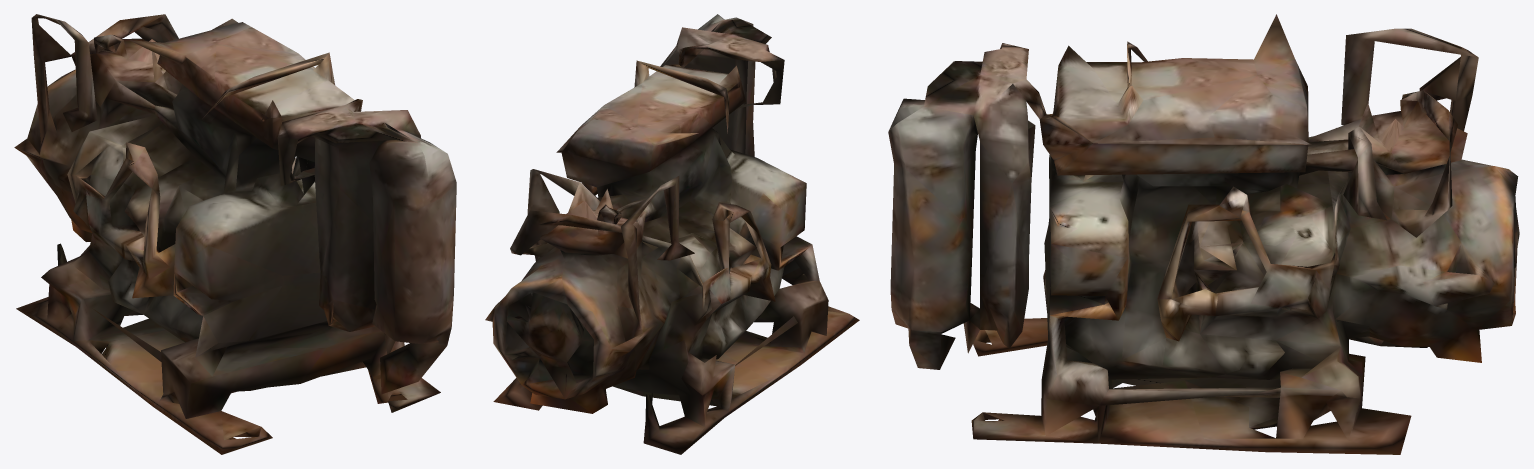
The model's file is e_generator.glb.
The picture shows the model from 3 angles, left to right: view 1: azimuth 30°, elevation 25°; view 2: azimuth 150°, elevation 25°; view 3: azimuth 270°, elevation 25°; orthographic projection. The views are drawn at different scales.
Parts seen in each view (by area): view 1: tripo_node_6b60b8fc-14d3-4deb-bc2b-718d13b23ef6; view 2: tripo_node_6b60b8fc-14d3-4deb-bc2b-718d13b23ef6; view 3: tripo_node_6b60b8fc-14d3-4deb-bc2b-718d13b23ef6.
Part boxes in pixels (box(x1,y1,x2,y2)): tripo_node_6b60b8fc-14d3-4deb-bc2b-718d13b23ef6: box(14, 14, 456, 454); tripo_node_6b60b8fc-14d3-4deb-bc2b-718d13b23ef6: box(485, 14, 859, 454); tripo_node_6b60b8fc-14d3-4deb-bc2b-718d13b23ef6: box(888, 14, 1519, 454).
Size of the model in its own units: 0.4579 by 0.6049 by 1.
Materials: 1 (1 with a texture image).
